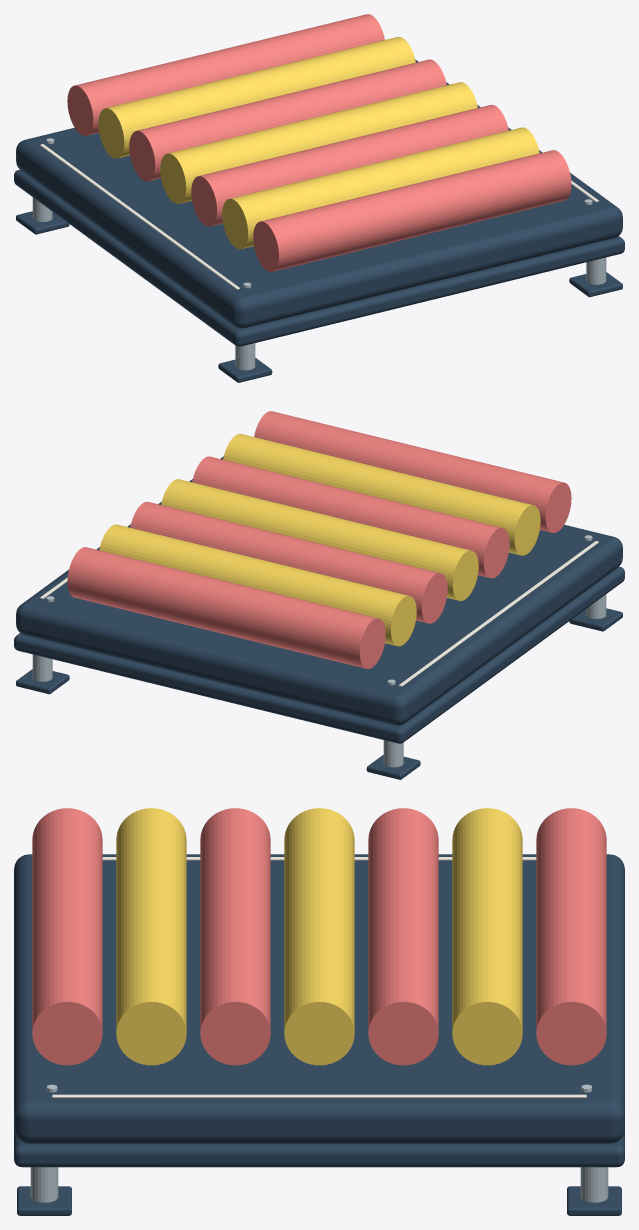
File: party-obstacle-course-party-obstacle-course-roller-bri-afc8ad52__28935.glb
3 views of the same model, one above another, from view 1: azimuth 30°, elevation 25°; view 2: azimuth 150°, elevation 25°; view 3: azimuth 270°, elevation 25° (orthographic). The views are drawn at different scales.
Visible parts, largest first — view 1: party-obstacle-course-roller-bridge; view 2: party-obstacle-course-roller-bridge; view 3: party-obstacle-course-roller-bridge.
Boxes of the visible parts, x1,y1,x2,y2 form: party-obstacle-course-roller-bridge: [14, 14, 624, 382]; party-obstacle-course-roller-bridge: [14, 411, 624, 779]; party-obstacle-course-roller-bridge: [14, 808, 624, 1215].
Bounding box in the file's own units: 4 × 1.33 × 4.
